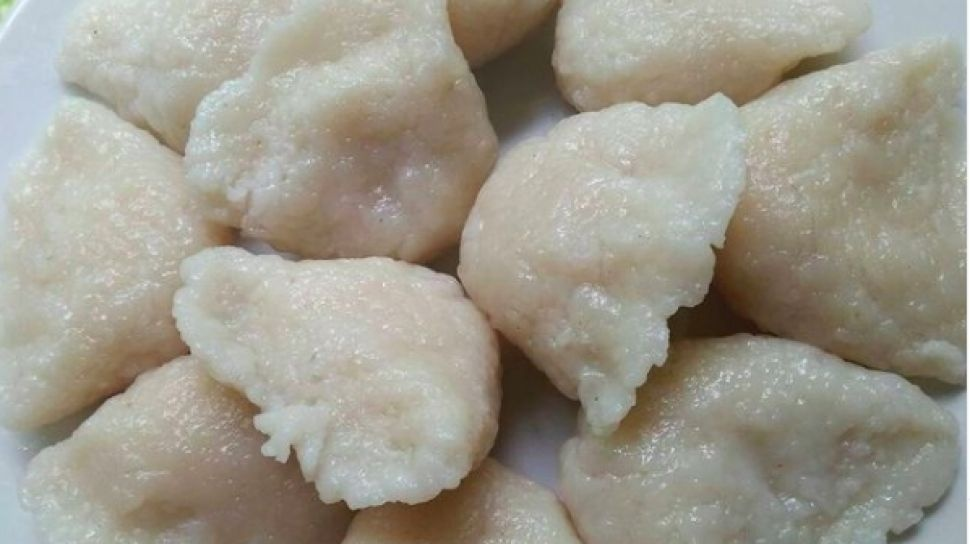pempek: (64, 28, 797, 497)
